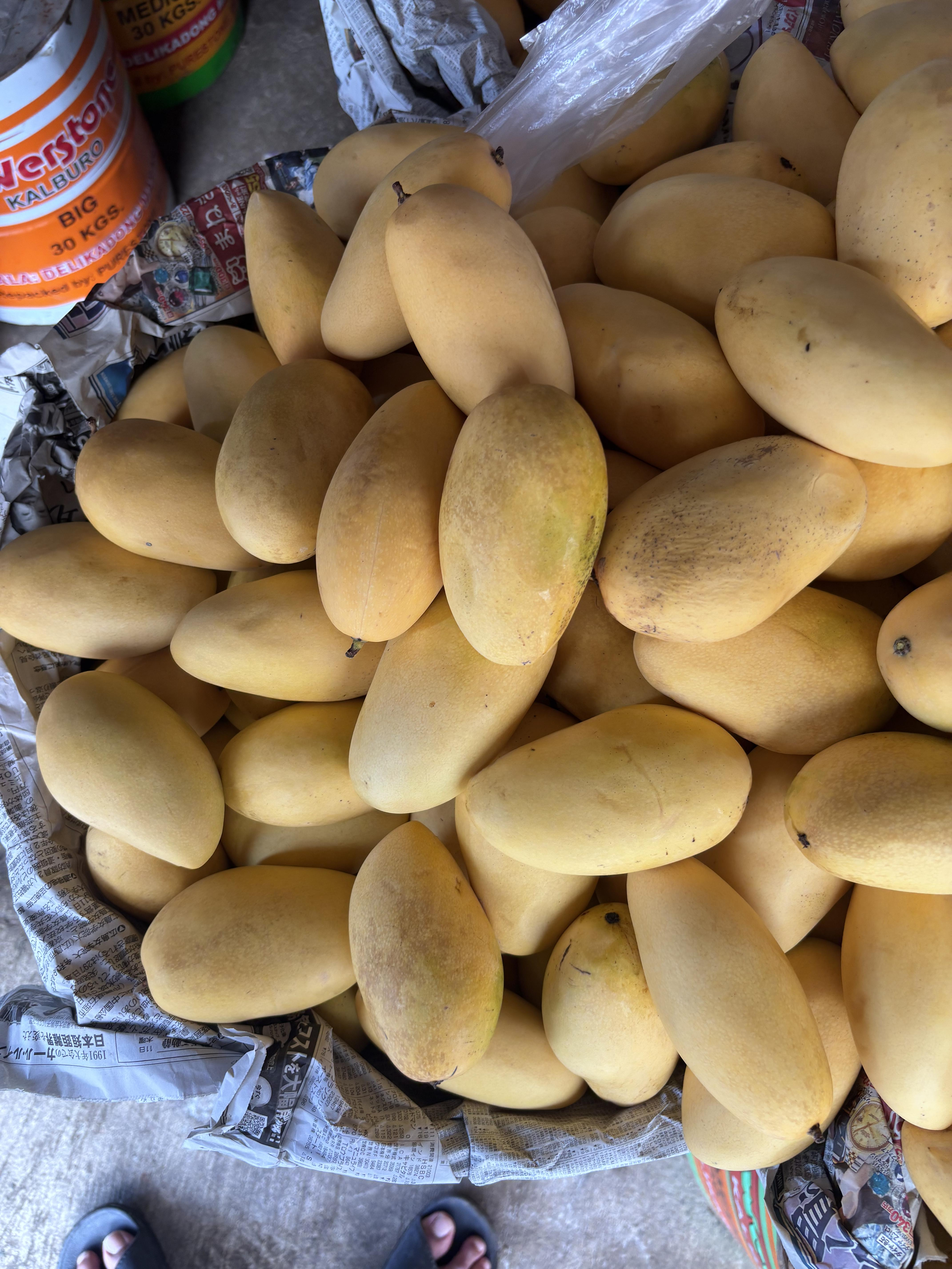mango: (596, 436, 866, 642), (463, 704, 751, 875), (439, 385, 607, 666), (349, 821, 503, 1082), (36, 671, 224, 869)
occluded: (628, 858, 832, 1143), (715, 256, 952, 467), (350, 592, 554, 813), (634, 587, 898, 755), (386, 184, 574, 415), (322, 132, 511, 360), (316, 381, 464, 656), (554, 283, 764, 469), (594, 173, 835, 331), (141, 865, 356, 1024), (216, 359, 373, 563), (836, 59, 952, 327), (700, 747, 849, 952), (0, 522, 216, 658), (170, 570, 384, 702), (75, 418, 257, 570), (542, 903, 678, 1106), (784, 732, 952, 894), (841, 886, 952, 1129), (440, 793, 596, 956), (733, 33, 859, 204), (580, 54, 729, 185), (221, 700, 372, 826), (312, 123, 467, 241), (544, 581, 674, 720), (437, 990, 585, 1109), (245, 189, 344, 364), (819, 460, 952, 581), (787, 938, 860, 1129), (830, 0, 952, 114), (682, 1069, 812, 1171), (86, 826, 226, 920), (222, 806, 408, 875), (94, 647, 231, 736), (877, 572, 952, 732), (618, 140, 807, 203), (183, 324, 279, 443), (517, 206, 600, 290), (511, 165, 623, 224), (115, 347, 192, 428), (902, 1122, 952, 1236), (410, 800, 468, 879), (497, 703, 576, 758), (605, 449, 660, 512), (318, 985, 368, 1052), (225, 558, 313, 589), (355, 989, 386, 1055), (200, 716, 238, 765), (230, 690, 294, 718), (841, 0, 901, 27), (224, 701, 256, 731)
